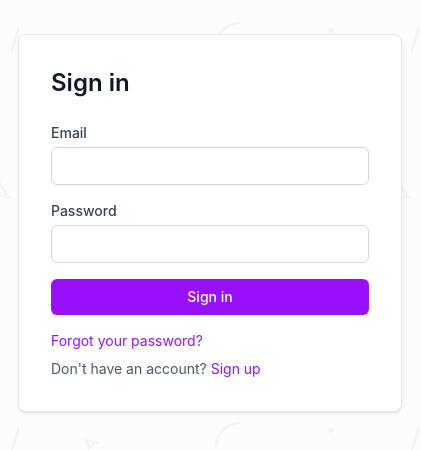
Test case: LoginPage › ошибка от сервера › показывает перевод по коду ошибки, а не сырое сообщение бэкенда
Type "user@example.com" into the field labelled "Email" at (210, 166), box x1=51 y1=147 x2=369 y2=185
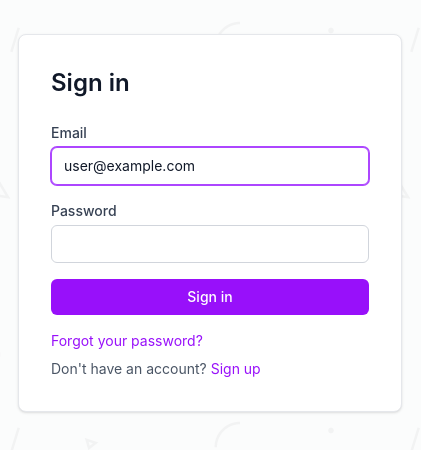
Type "wrong-password" into the password field labelled "Password" at (210, 244), box x1=51 y1=225 x2=369 y2=263
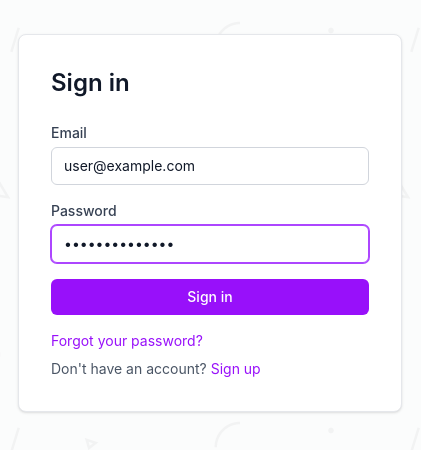
Click the button "Sign in" at (210, 297), box x1=51 y1=279 x2=369 y2=315
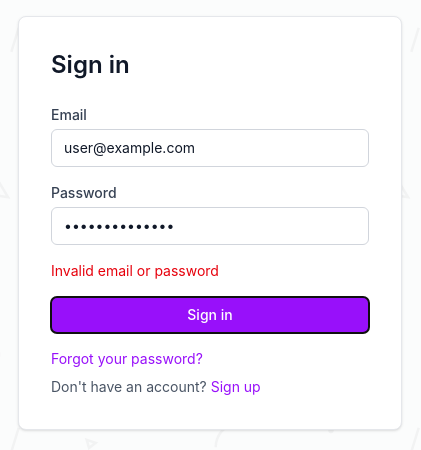
Check: the text "Invalid email or password" is shown, box x1=51 y1=262 x2=219 y2=279
